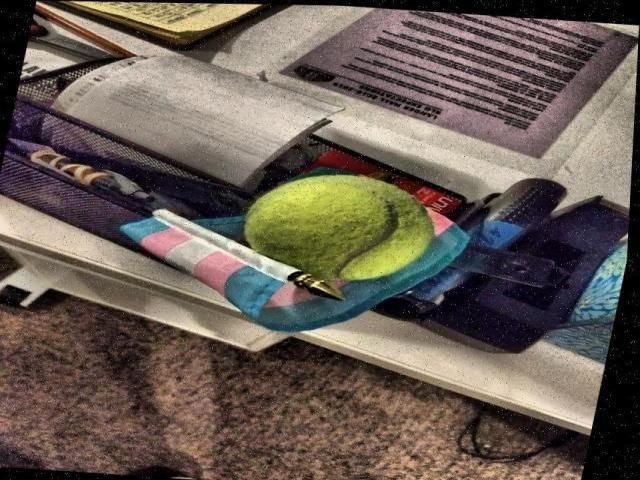tennis-ball: (242, 176, 436, 283)
